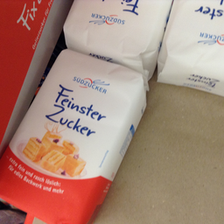sugar: (3, 49, 147, 223), (61, 1, 169, 79), (156, 1, 224, 94)
